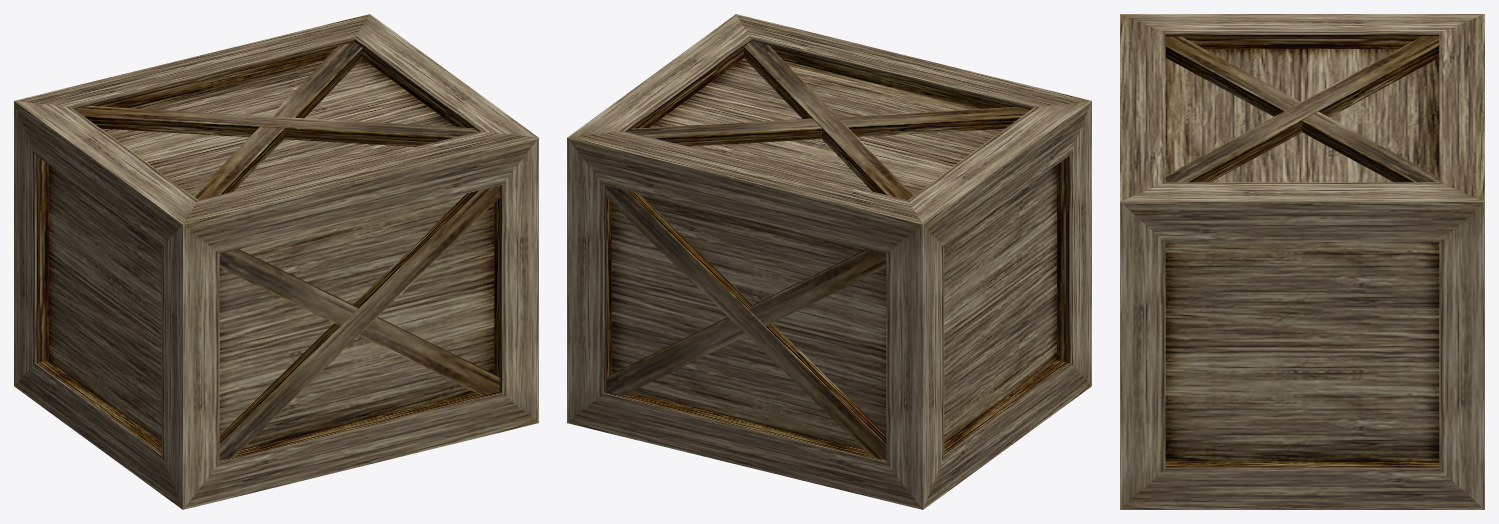
The model's file is Crate.FBX.
3 views of the same model, side by side, from view 1: azimuth 30°, elevation 25°; view 2: azimuth 150°, elevation 25°; view 3: azimuth 270°, elevation 25° (orthographic). The views are drawn at different scales.
Visible parts, largest first — view 1: Crate; view 2: Crate; view 3: Crate.
Boxes of the visible parts, x1,y1,x2,y2 form: Crate: (14,14,538,509); Crate: (567,14,1091,509); Crate: (1120,14,1484,509).
Bounding box in the file's own units: 132 × 101 × 109.
